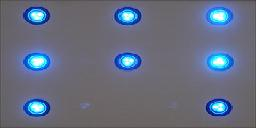LED: (205, 53, 235, 74), (23, 50, 49, 72), (113, 52, 144, 70)
